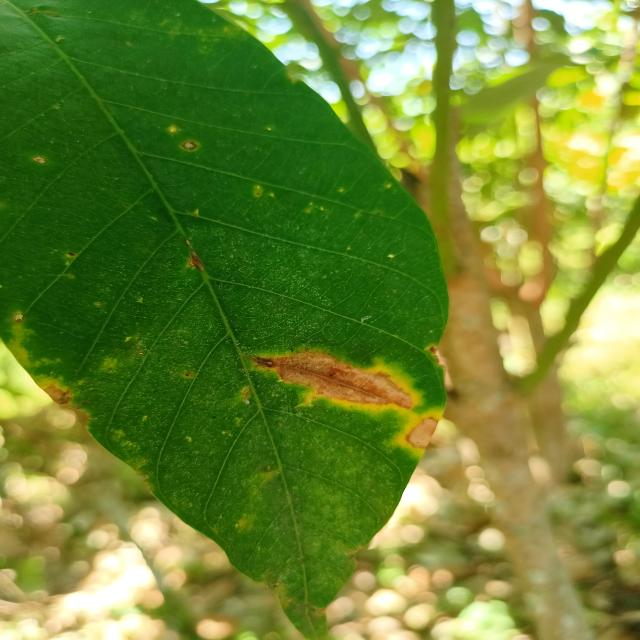Colletotrichum: (181, 141, 198, 151), (33, 156, 46, 164), (168, 126, 178, 133), (306, 209, 310, 213), (256, 185, 261, 188)
Leaf-Blight: (267, 351, 413, 410), (404, 417, 440, 450), (433, 346, 453, 394), (44, 385, 72, 404)
